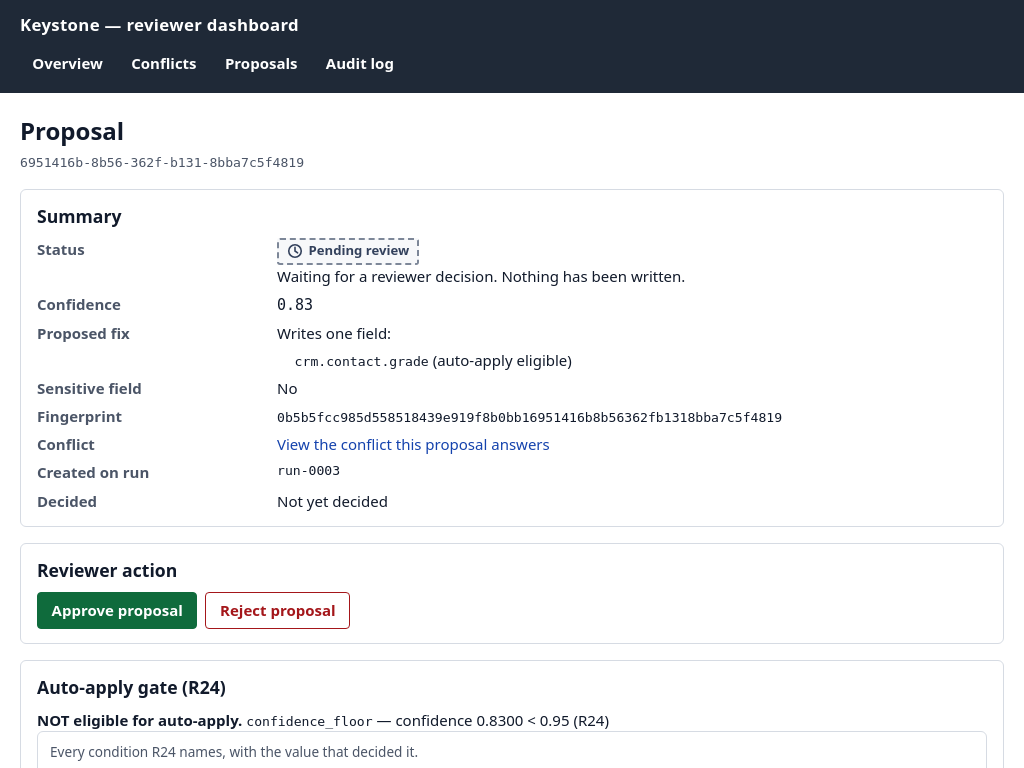
Test: /proposals/:id — the sensitive hold › offers apply only once a non-sensitive field-writing proposal is approved
Check: the button "Apply approved fix" is not shown
Click the button "Approve proposal": (117, 610) 37,592 -> 198,629
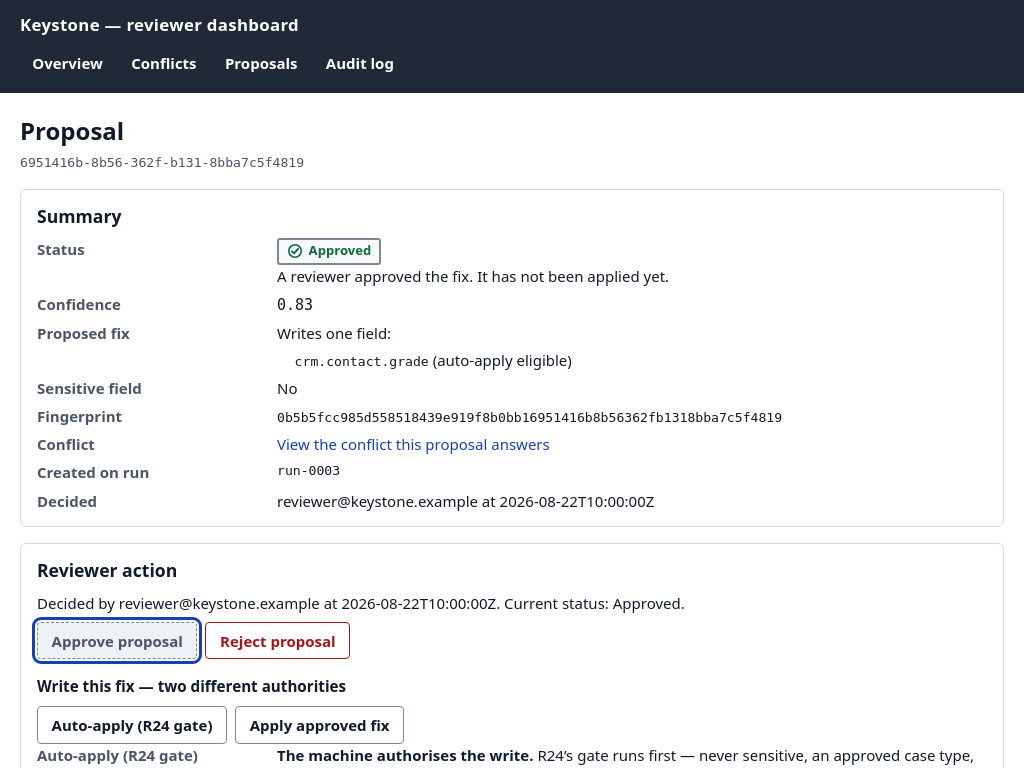
Check: the button "Apply approved fix" is enabled, box 235,706 -> 404,744
